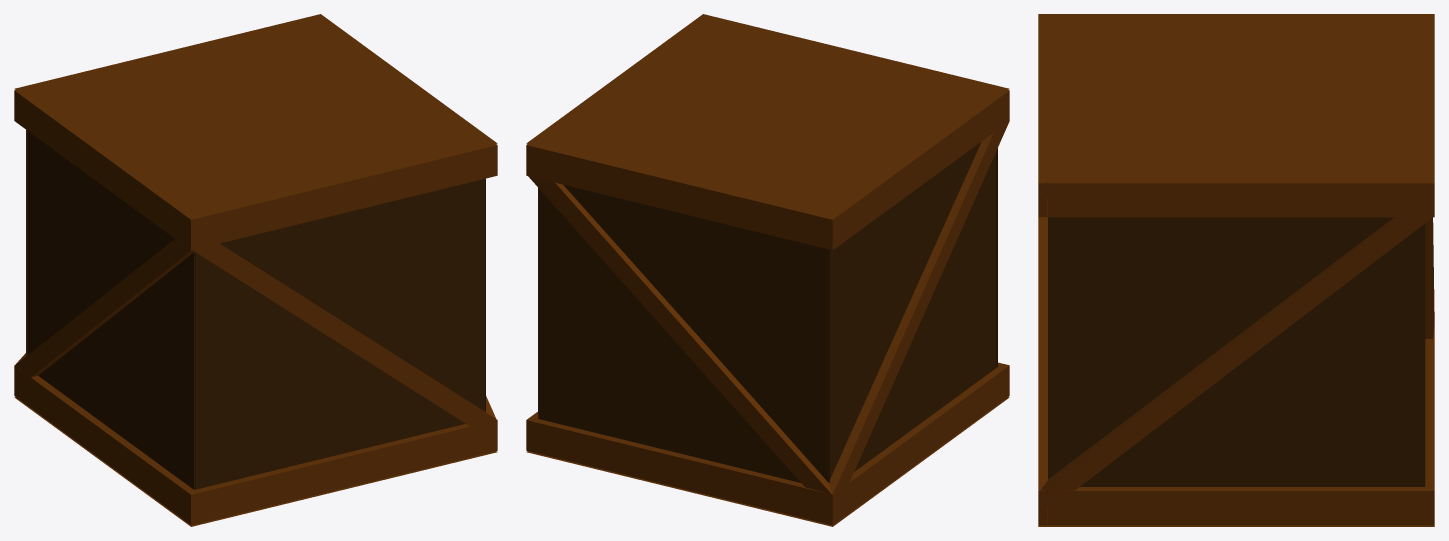
The picture shows the model from 3 angles, left to right: view 1: azimuth 30°, elevation 25°; view 2: azimuth 150°, elevation 25°; view 3: azimuth 270°, elevation 25°; orthographic projection. The views are drawn at different scales.
Parts seen in each view (by area): view 1: front, top, left.001, front2, front3, front1, left2, left3, left1, bottom; view 2: back, top, left.001, back2, back3, back1, left1, left2, left3, bottom; view 3: right, top, right2, right3, right1, front1, back2, back1, bottom.
Boxes of the visible parts, x1,y1,x2,y2 form: front: (194, 179, 485, 489); top: (14, 14, 497, 218); left.001: (27, 131, 195, 489); front2: (187, 420, 497, 525); front3: (187, 144, 497, 250); front1: (192, 243, 496, 426); left2: (18, 368, 193, 521); left3: (18, 93, 188, 246); left1: (15, 239, 194, 377); bottom: (14, 397, 497, 526); back: (538, 184, 829, 482); top: (526, 14, 1009, 218); left.001: (828, 142, 996, 482); back2: (526, 417, 836, 525); back3: (526, 144, 836, 250); back1: (528, 176, 832, 494); left1: (829, 121, 1009, 494); left2: (837, 366, 1005, 521); left3: (835, 93, 1005, 246); bottom: (526, 397, 1009, 526); right: (1048, 217, 1425, 486); top: (1038, 14, 1434, 181); right2: (1048, 487, 1425, 525); right3: (1048, 181, 1425, 217); right1: (1040, 217, 1432, 490); front1: (1038, 198, 1047, 490); back2: (1425, 325, 1434, 525); back1: (1425, 217, 1434, 338); bottom: (1038, 506, 1434, 526).
Bounding box in the file's own units: 21 × 20.2 × 21.01.
